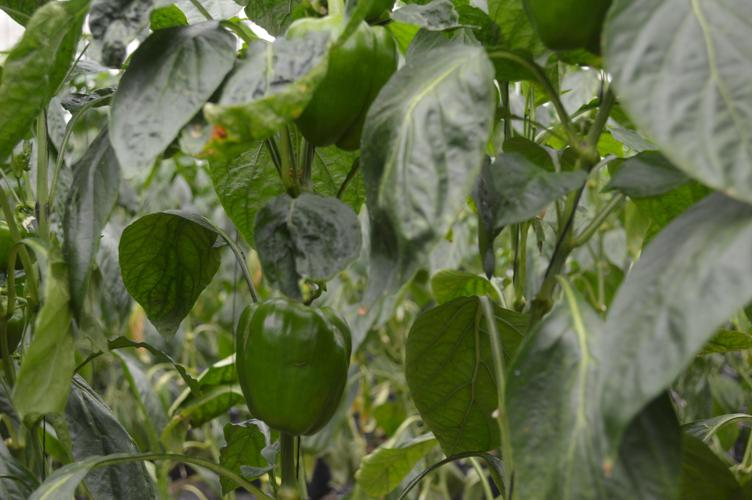BellPepper: (226, 296, 364, 448), (270, 12, 414, 153)
